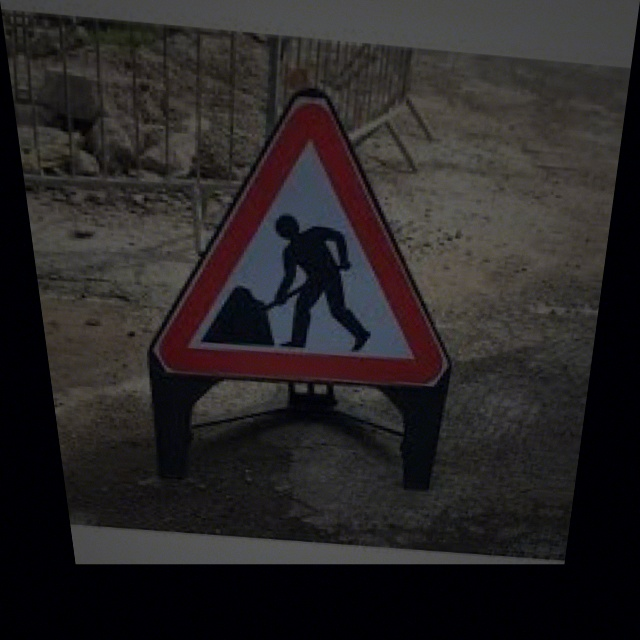Men_at_Work: (121, 69, 491, 390)
